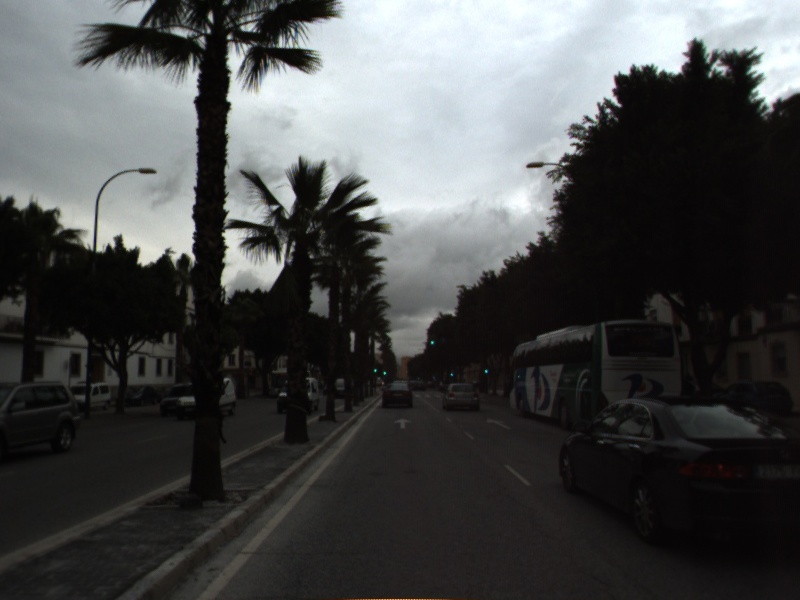STRAIGHT: (483, 416, 514, 432), (392, 416, 415, 431)
